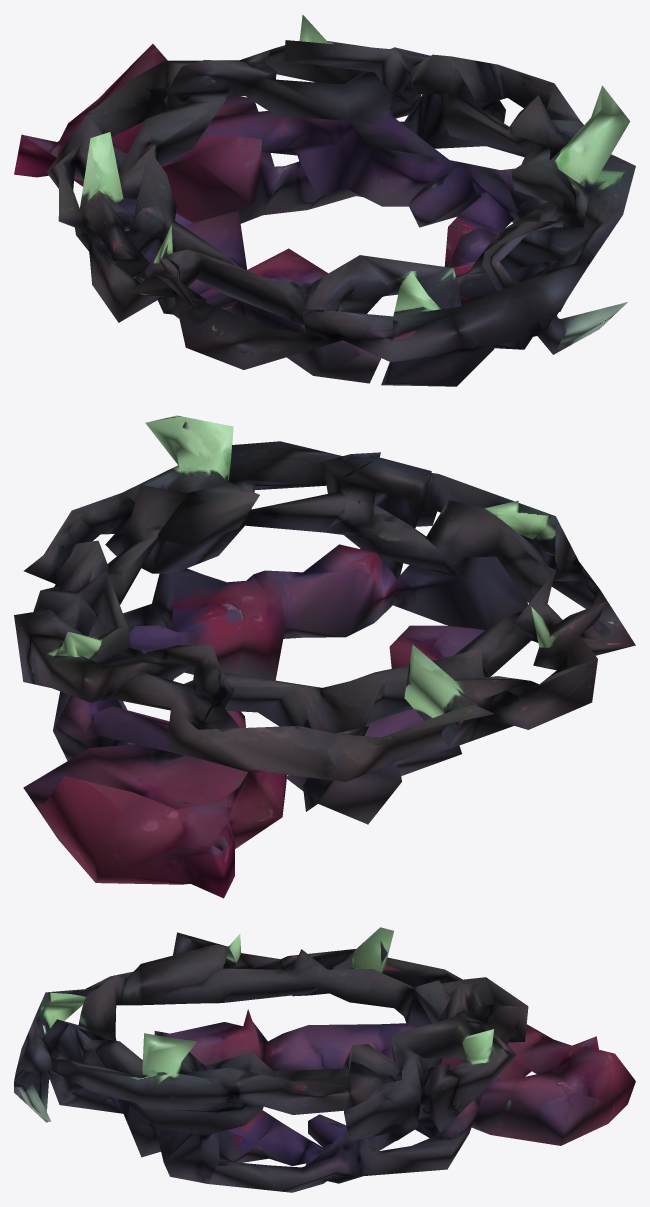
Rendered from relic-chain.glb.
The picture shows the model from 3 angles, top to bottom: view 1: azimuth 30°, elevation 25°; view 2: azimuth 150°, elevation 25°; view 3: azimuth 270°, elevation 25°; orthographic projection. The views are drawn at different scales.
Parts seen in each view (by area): view 1: tripo_node_95d0f196-d0f4-4c0d-8d70-1b94316a6d7a; view 2: tripo_node_95d0f196-d0f4-4c0d-8d70-1b94316a6d7a; view 3: tripo_node_95d0f196-d0f4-4c0d-8d70-1b94316a6d7a.
Boxes of the visible parts, x1,y1,x2,y2 form: tripo_node_95d0f196-d0f4-4c0d-8d70-1b94316a6d7a: (14, 14, 635, 386); tripo_node_95d0f196-d0f4-4c0d-8d70-1b94316a6d7a: (14, 415, 635, 898); tripo_node_95d0f196-d0f4-4c0d-8d70-1b94316a6d7a: (14, 927, 635, 1192).
Bounding box in the file's own units: 0.6966 × 0.2878 × 0.9803.
1 material, 1 textured.
